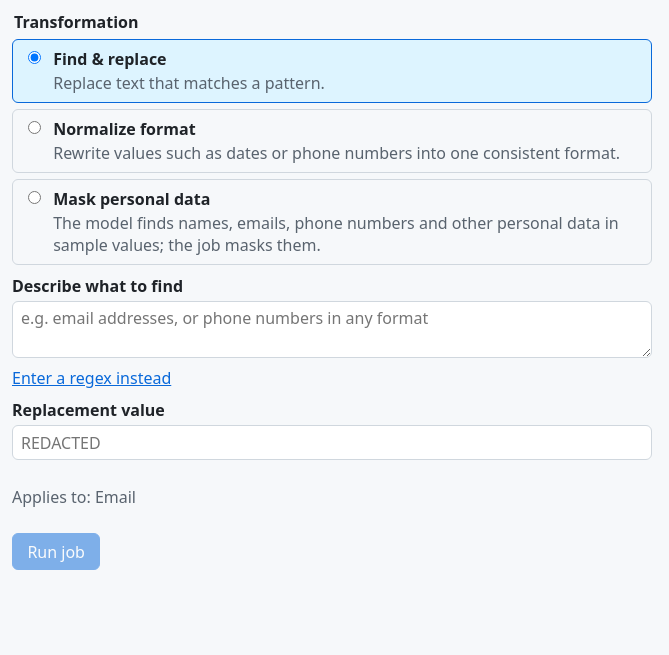
Test: JobForm › shows field errors returned by the API
The image size is (669, 655).
Click the button "Enter a regex instead" at [92, 378], box [12,367,171,389]
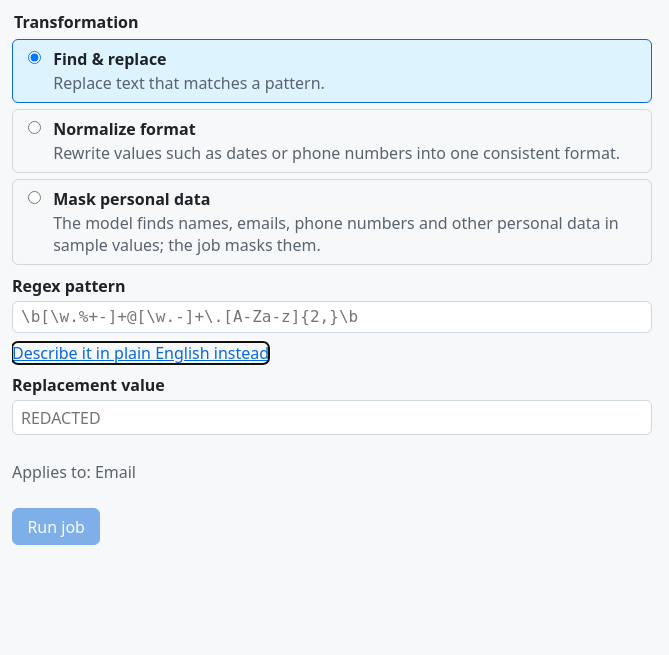
Type "(oops" into the field labelled "Regex pattern" at [332, 317], box [12,300,652,333]
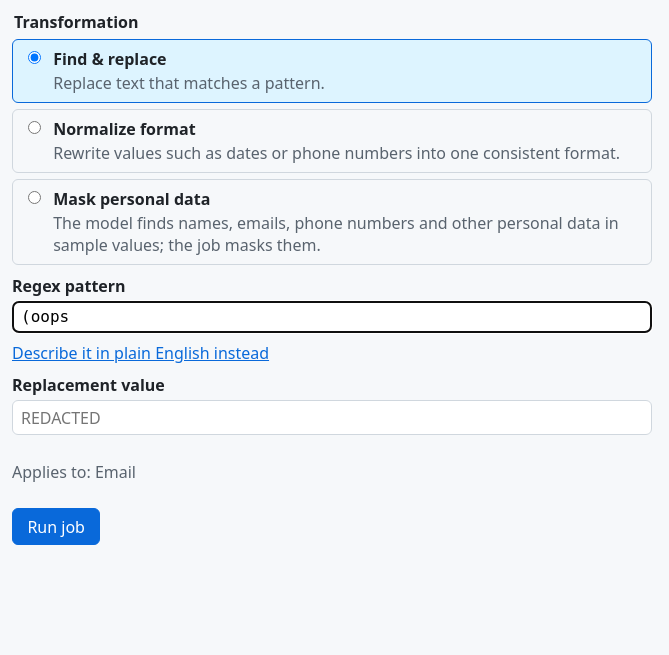
Click the button "Run job" at [56, 527], box [12,508,100,545]
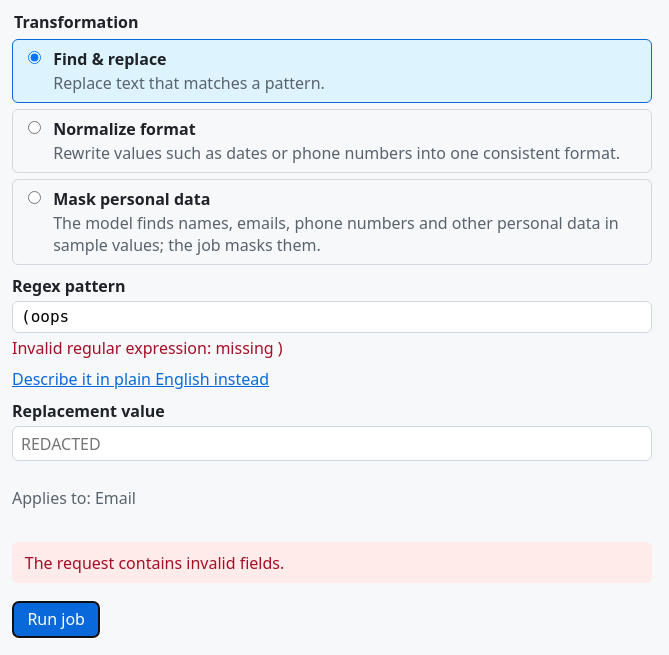
Now the text "Invalid regular expression: missing )" is shown, box [12,337,283,359]
Now the message reads "The request contains invalid fields.", box [25,552,284,574]
